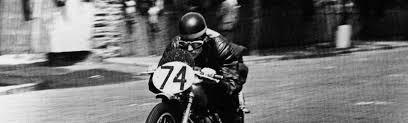helmet: (167, 12, 214, 68)
